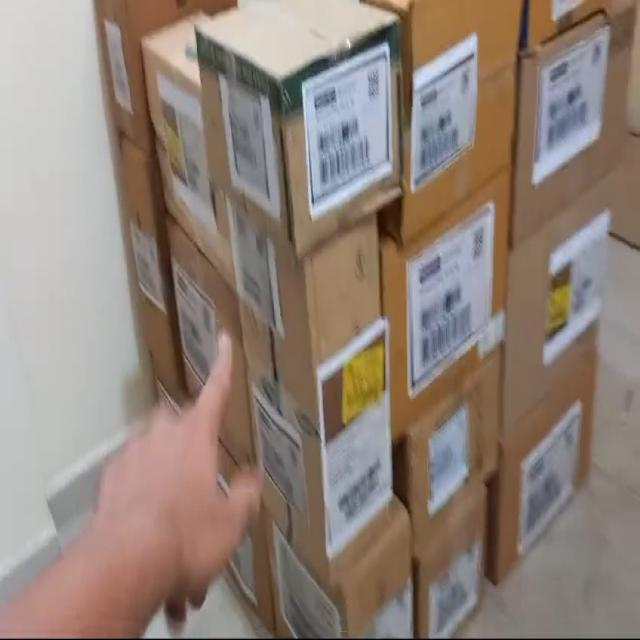BoxFace: (378, 157, 520, 451), (300, 210, 404, 565), (272, 4, 409, 252), (397, 0, 527, 257), (502, 160, 628, 425), (510, 0, 638, 246), (497, 331, 606, 588), (404, 333, 506, 554)
